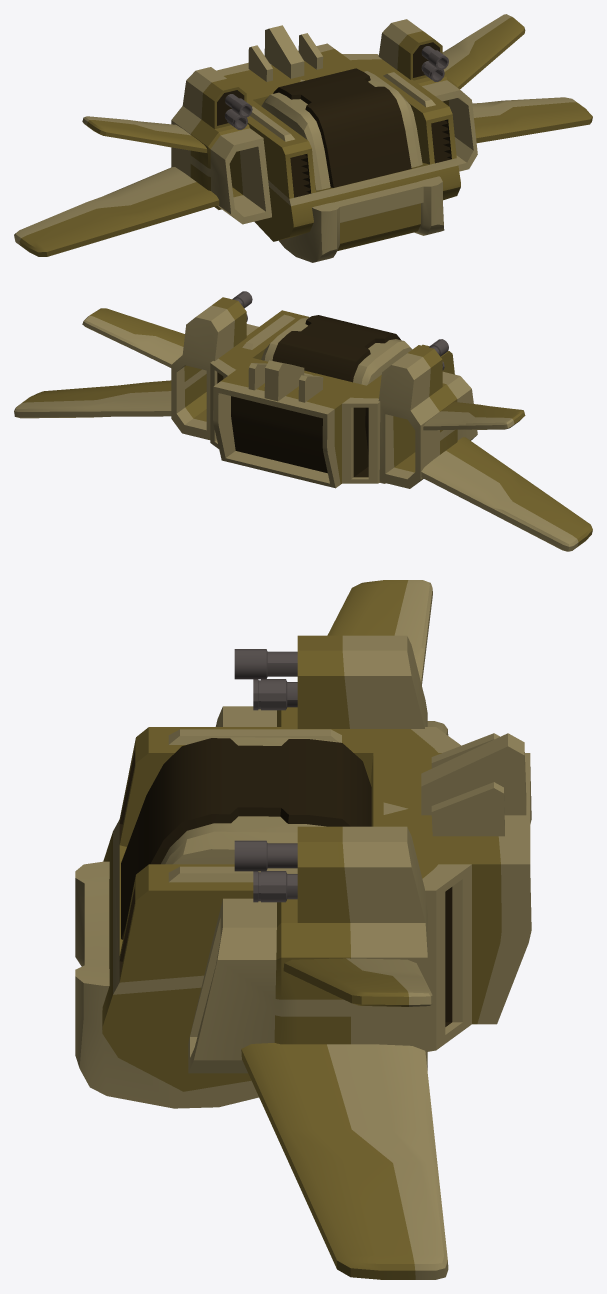
Rendered from n_spaceship_finnthefrog.glb.
3 renders of one model, top to bottom at view 1: azimuth 30°, elevation 25°; view 2: azimuth 150°, elevation 25°; view 3: azimuth 270°, elevation 25°, orthographic. The views are drawn at different scales.
Visible parts, largest first — view 1: Spaceship_FinnTheFrog; view 2: Spaceship_FinnTheFrog; view 3: Spaceship_FinnTheFrog.
Part boxes in pixels (left/top/right/bottom): Spaceship_FinnTheFrog: left=14, top=14, right=592, bottom=262; Spaceship_FinnTheFrog: left=14, top=291, right=592, bottom=551; Spaceship_FinnTheFrog: left=75, top=580, right=531, bottom=1279.
Bounding box in the file's own units: 11.62 × 3.06 × 4.11.
1 material, 1 textured.
